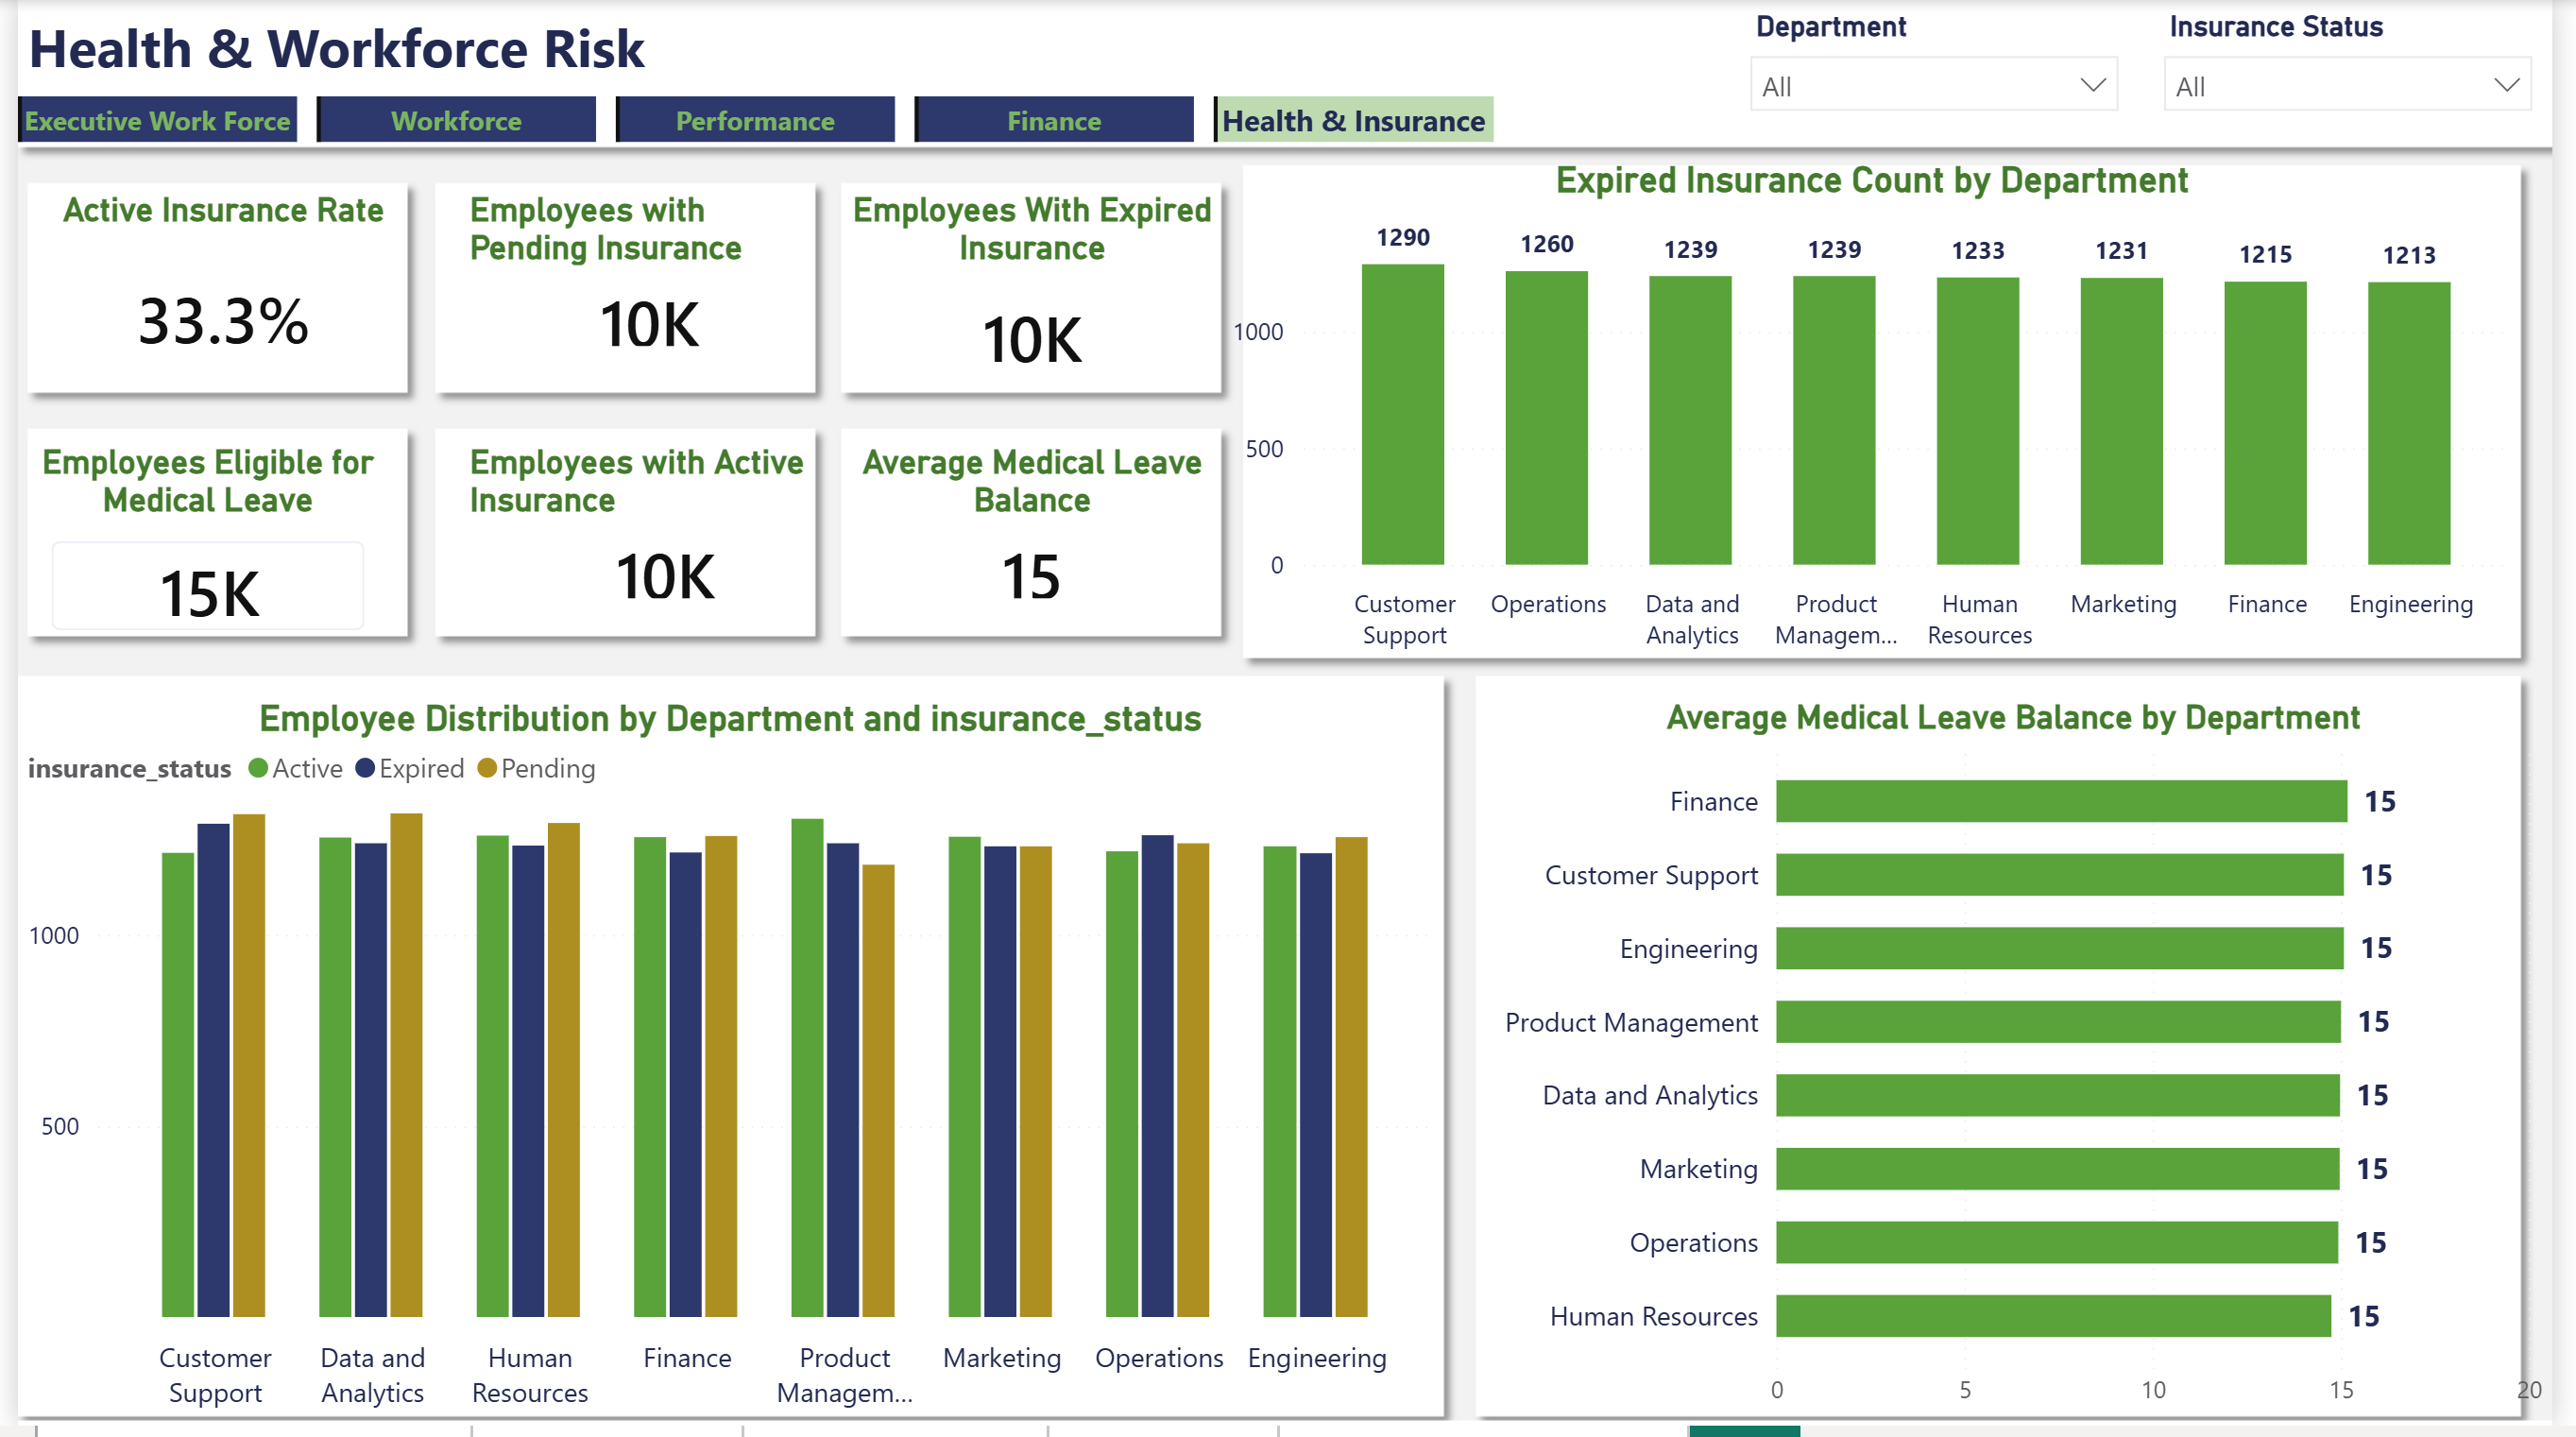

Layout of this report page (visuals, bound fields, positions):
{"tool":"powerbi","page":{"name":"Health & Insurance","canvas":[1280,720],"ordinal":4},"visuals":[{"type":"cardVisual","title":"Active Insurance Rate","fields":{"Data":["company_hr_db vw_employee_profile.Active Insurance Rate"]},"box":[0,96,208,112],"z":0},{"type":"cardVisual","title":"Employees With Expired Insurance","fields":{"Data":["company_hr_db vw_employee_profile.Employees with Expired Insurance"]},"box":[416,96,192,112],"z":1000},{"type":"cardVisual","title":"Employees Eligible for Medical Leave","fields":{"Data":["company_hr_db vw_employee_profile.Employees Eligible for Medical Leave"]},"box":[0,224,192,112],"z":2000},{"type":"cardVisual","title":"Average Medical Leave Balance","fields":{"Data":["company_hr_db vw_employee_profile.Average Medical Leave Balance"]},"box":[416,224,192,96],"z":3000},{"type":"clusteredColumnChart","title":"Employee Distribution by Department and insurance_status","fields":{"Category":["company_hr_db vw_employee_profile.Department"],"Series":["company_hr_db vw_employee_profile.insurance_status"],"Y":["company_hr_db vw_employee_profile.Employee Count"]},"box":[0,352,720,368],"z":4000},{"type":"clusteredBarChart","fields":{"Category":["company_hr_db vw_employee_profile.Department"],"Y":["company_hr_db vw_employee_profile.Average Medical Leave Balance"]},"box":[736,352,544,368],"z":5000},{"type":"clusteredColumnChart","fields":{"Category":["company_hr_db vw_employee_profile.Department"],"Y":["company_hr_db vw_employee_profile.Expired Insurance Count"]},"box":[608,80,656,256],"z":6000},{"type":"textbox","box":[0,0,360,48],"z":7000},{"type":"cardVisual","title":"Employees with Pending Insurance","fields":{"Data":["company_hr_db vw_employee_profile.Pending Insurance Count"]},"box":[224,96,192,96],"z":8000},{"type":"cardVisual","title":"Employees with Active Insurance","fields":{"Data":["company_hr_db vw_employee_profile.Employees with Active Insurance"]},"box":[224,224,208,96],"z":9000},{"type":"slicer","fields":{"Values":["company_hr_db vw_employee_profile.Department"]},"box":[864,0,206,70],"z":10000},{"type":"slicer","fields":{"Values":["company_hr_db vw_employee_profile.insurance_status"]},"box":[1074,0,206,70],"z":11000},{"type":"pageNavigator","box":[0,48,748,23],"z":12000}]}

Visuals, with their boxes in screenshot pixels (x1, y1, x2, y2), scaled from the page's 1280x720 canvas onto the 2576x1437 screenshot:
"Active Insurance Rate" cardVisual: bbox=(0, 192, 418, 415)
"Employees With Expired Insurance" cardVisual: bbox=(837, 192, 1223, 415)
"Employees Eligible for Medical Leave" cardVisual: bbox=(0, 447, 386, 671)
"Average Medical Leave Balance" cardVisual: bbox=(837, 447, 1223, 639)
"Employee Distribution by Department and insurance_status" clusteredColumnChart: bbox=(0, 703, 1449, 1436)
clusteredBarChart - company_hr_db vw_employee_profile.Department x company_hr_db vw_employee_profile.Average Medical Leave Balance: bbox=(1481, 703, 2575, 1436)
clusteredColumnChart - company_hr_db vw_employee_profile.Department x company_hr_db vw_employee_profile.Expired Insurance Count: bbox=(1223, 160, 2544, 671)
textbox: bbox=(0, 0, 725, 95)
"Employees with Pending Insurance" cardVisual: bbox=(451, 192, 837, 384)
"Employees with Active Insurance" cardVisual: bbox=(451, 447, 869, 639)
slicer - company_hr_db vw_employee_profile.Department: bbox=(1739, 0, 2154, 140)
slicer - company_hr_db vw_employee_profile.insurance_status: bbox=(2161, 0, 2575, 140)
pageNavigator: bbox=(0, 95, 1506, 142)
